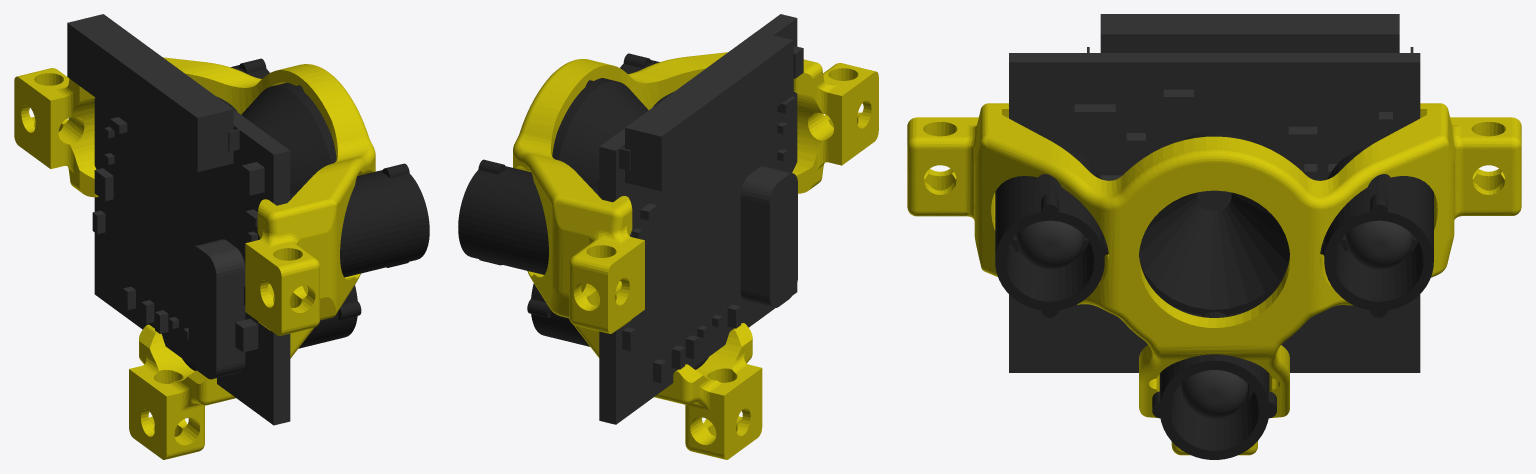
Rendered from trone.dae.
3 renders of one model, left to right at view 1: azimuth 30°, elevation 25°; view 2: azimuth 150°, elevation 25°; view 3: azimuth 270°, elevation 25°, orthographic. The views are drawn at different scales.
Parts seen in each view (by area): view 1: PCB_GREEN_Lenses_Gold, Sensor_Cover_YELLOW, Lense_Covers_BLACK; view 2: PCB_GREEN_Lenses_Gold, Sensor_Cover_YELLOW, Lense_Covers_BLACK; view 3: PCB_GREEN_Lenses_Gold, Sensor_Cover_YELLOW, Lense_Covers_BLACK.
Boxes of the visible parts, x1,y1,x2,y2 form: PCB_GREEN_Lenses_Gold: (67, 14, 290, 425); Sensor_Cover_YELLOW: (14, 57, 375, 459); Lense_Covers_BLACK: (182, 58, 429, 370); PCB_GREEN_Lenses_Gold: (597, 14, 803, 424); Sensor_Cover_YELLOW: (513, 52, 878, 459); Lense_Covers_BLACK: (458, 53, 708, 369); PCB_GREEN_Lenses_Gold: (1009, 14, 1420, 418); Sensor_Cover_YELLOW: (907, 103, 1521, 455); Lense_Covers_BLACK: (995, 131, 1433, 459).
Bounding box in the file's own units: 0.018 × 0.0448 × 0.0339.
